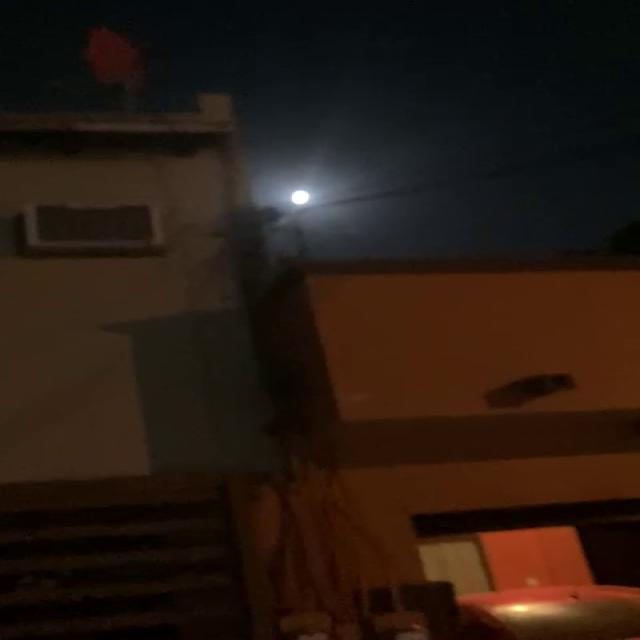moon: (282, 196, 328, 226)
